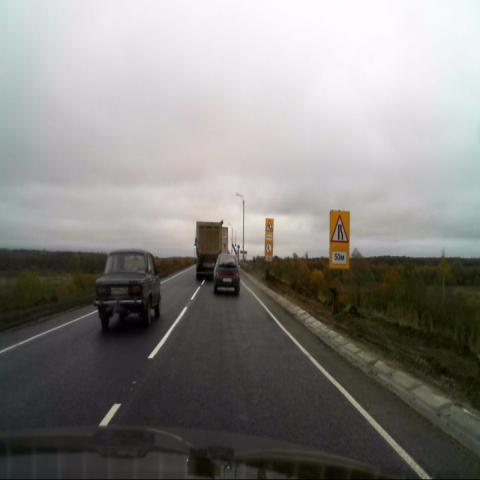1_20_2: (330, 210, 350, 246)
8_1_1: (330, 246, 350, 269)
